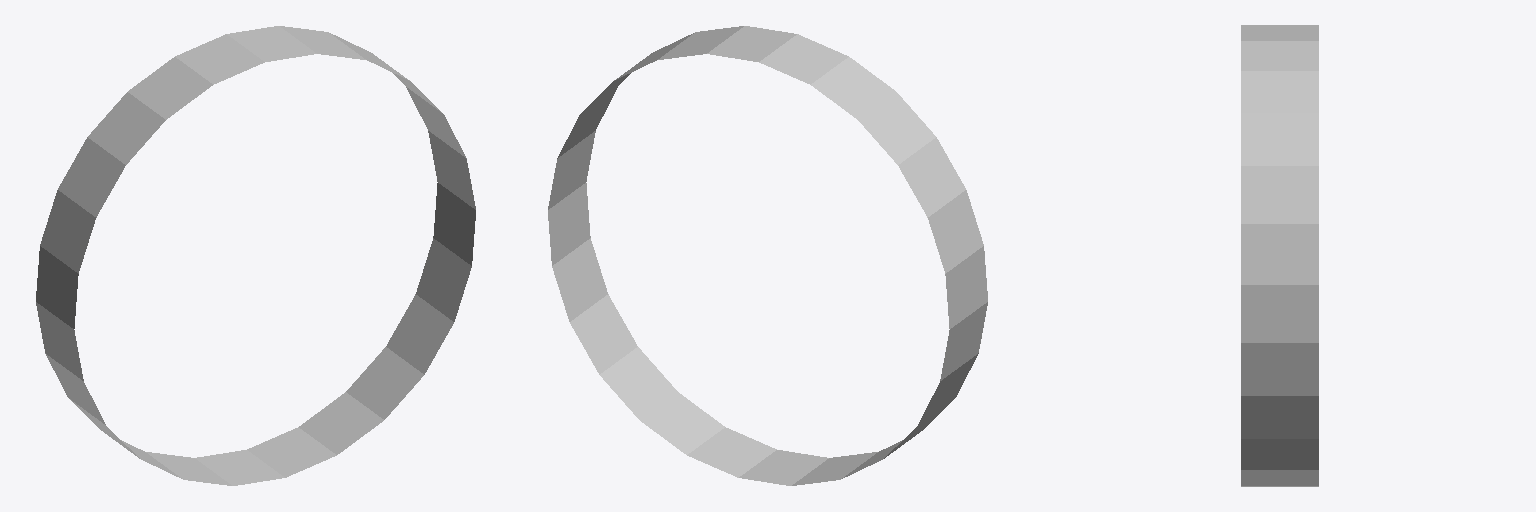
The model's file is original-27.obj.
3 views of the same model, side by side, from view 1: azimuth 30°, elevation 25°; view 2: azimuth 150°, elevation 25°; view 3: azimuth 270°, elevation 25° (orthographic).
Visible parts, largest first — view 1: #ID388; view 2: #ID388; view 3: #ID388.
Part boxes in pixels (left/top/right/bottom): #ID388: left=36, top=26, right=475, bottom=485; #ID388: left=548, top=26, right=987, bottom=485; #ID388: left=1241, top=25, right=1318, bottom=486.
Size of the model in its own units: 0.1152 by 0.1152 by 0.0192.